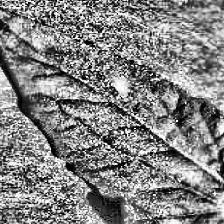Anthracnose Fruit Rot: (21, 26, 71, 70), (105, 70, 138, 106)
